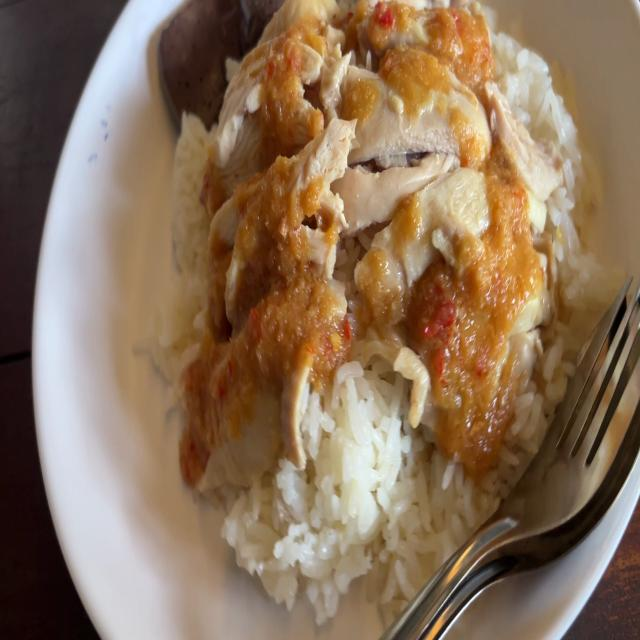chicken_rice: (221, 7, 537, 469)
noodle: (150, 0, 238, 114)
